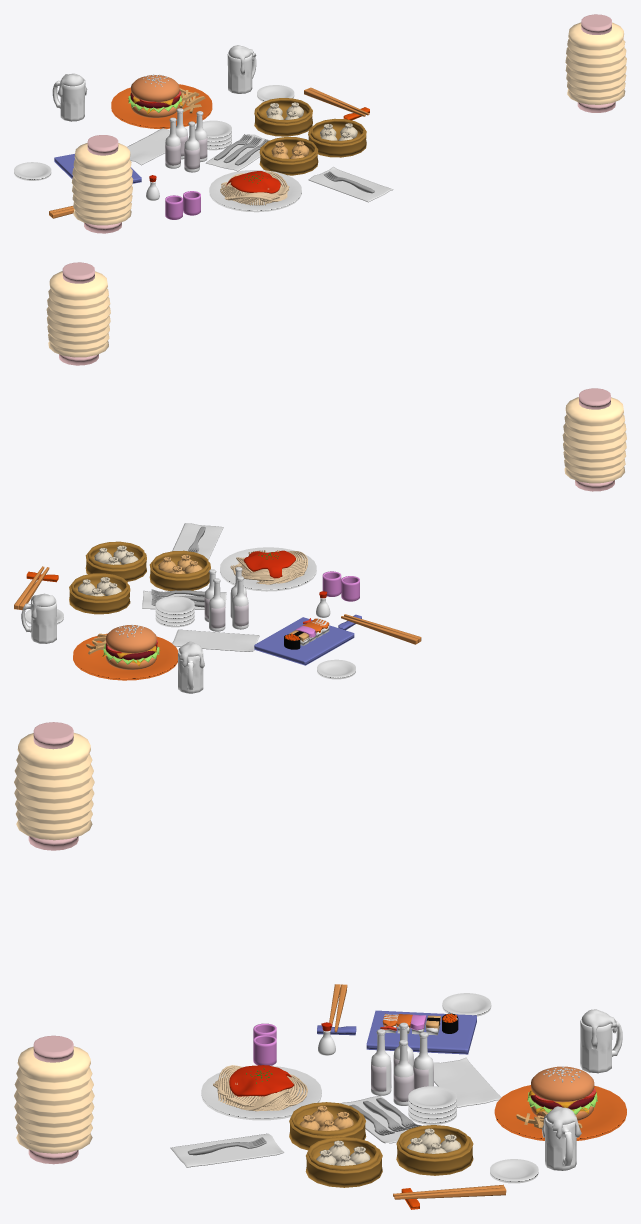
File: Food-All.glb
The picture shows the model from 3 angles, top to bottom: view 1: azimuth 30°, elevation 25°; view 2: azimuth 150°, elevation 25°; view 3: azimuth 270°, elevation 25°; orthographic projection. The views are drawn at different scales.
Parts seen in each view (by area): view 1: Cylinder.028, Cylinder.010, plate01.003, Cylinder.025, Cylinder.009, Cylinder.032, plate01.001, Plane.001, Cylinder.001, Noodle.001, Cylinder.024, Plane.003 (+15 smaller); view 2: Cylinder.010, Cylinder.028, plate01.003, Sushi-Plate, Cylinder.025, Cylinder.009, plate01.001, Cylinder.032, Plane.003, Cylinder.001, Noodle.001, Cylinder.035 (+8 smaller); view 3: Cylinder.010, Cylinder.028, plate01.003, Cylinder.025, Cylinder.032, Sushi-Plate, plate01.001, Plane.003, Plane.001, Cylinder.009, Noodle.001, Cylinder.001 (+12 smaller).
Boxes of the visible parts, x1,y1,x2,y2 form: Cylinder.028: (71,143,133,225); Cylinder.010: (565,22,626,104); plate01.003: (111,84,212,128); Cylinder.025: (254,98,312,136); Cylinder.009: (259,137,318,175); Cylinder.032: (308,118,366,157); plate01.001: (209,170,301,212); Plane.001: (308,166,393,202); Cylinder.001: (131,75,179,102); Noodle.001: (220,171,289,205); Cylinder.024: (52,80,84,121); Plane.003: (127,128,188,165); Cylinder.010: (46,271,110,357); Cylinder.028: (562,397,626,483); plate01.003: (73,633,177,680); Sushi-Plate: (254,617,354,665); Cylinder.025: (69,573,130,614); Cylinder.009: (149,550,210,590); plate01.001: (220,547,316,591); Cylinder.032: (85,541,146,581); Plane.003: (172,629,259,651); Cylinder.001: (106,625,156,653); Noodle.001: (230,550,307,584); Cylinder.035: (21,600,56,643); Cylinder.010: (14,1046,94,1153); Cylinder.028: (14,733,94,840); plate01.003: (494,1085,626,1140); Cylinder.025: (396,1125,473,1175); Cylinder.032: (305,1137,382,1187); Sushi-Plate: (366,1010,476,1054); plate01.001: (201,1065,321,1120); Plane.003: (433,1057,501,1107); Plane.001: (170,1133,284,1167); Cylinder.009: (289,1102,366,1150); Noodle.001: (213,1065,307,1111); Cylinder.001: (531,1066,594,1102).
Size of the model in its own units: 26.02 by 7.85 by 19.39.
